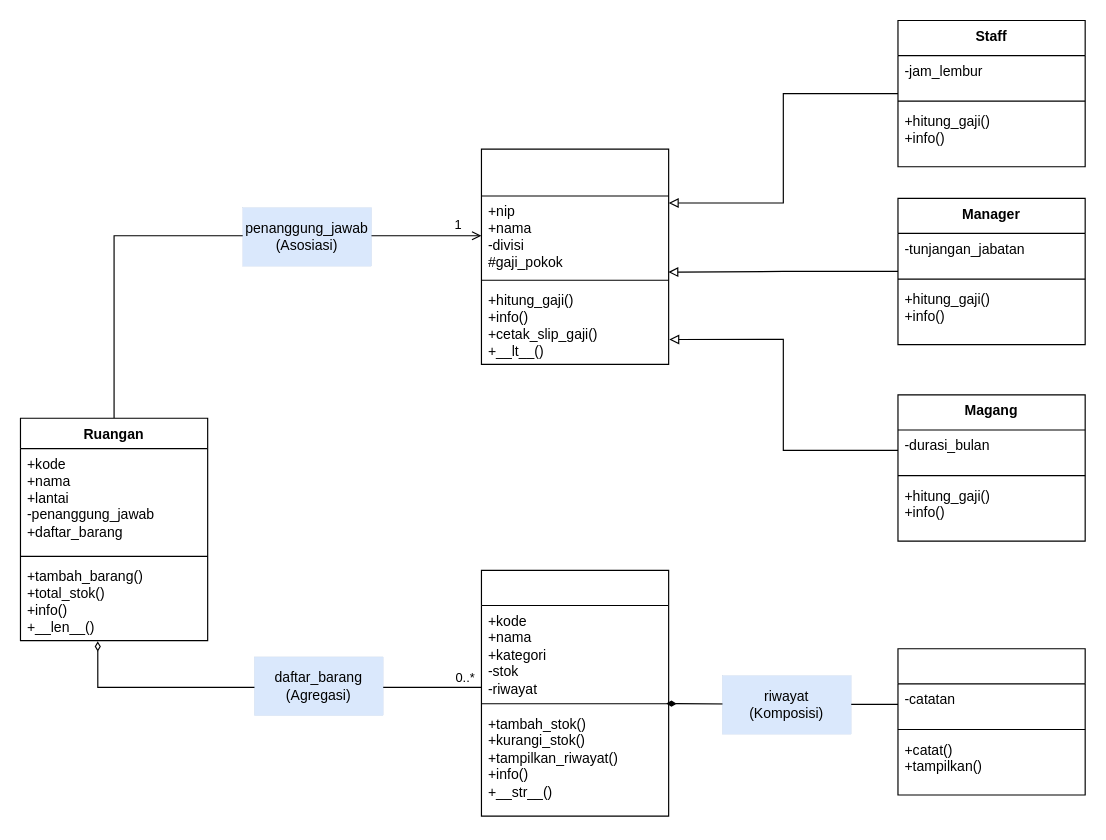
This 1106x840 diagram has some shape labels left out. The box of each missing label's shape, as (x1, y1, x2, y2) in pixels:
<<abstract>> Karyawan: (480, 148, 669, 364)
BarangInventaris: (480, 569, 669, 816)
RiwayatStok: (897, 648, 1085, 795)
